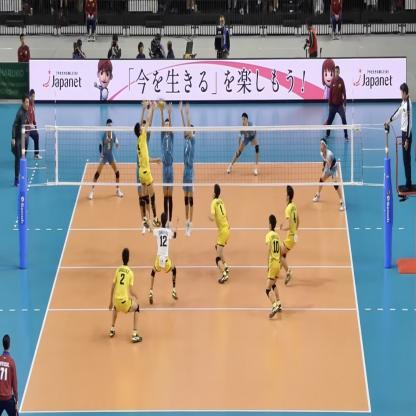spike: (134, 95, 164, 232)
